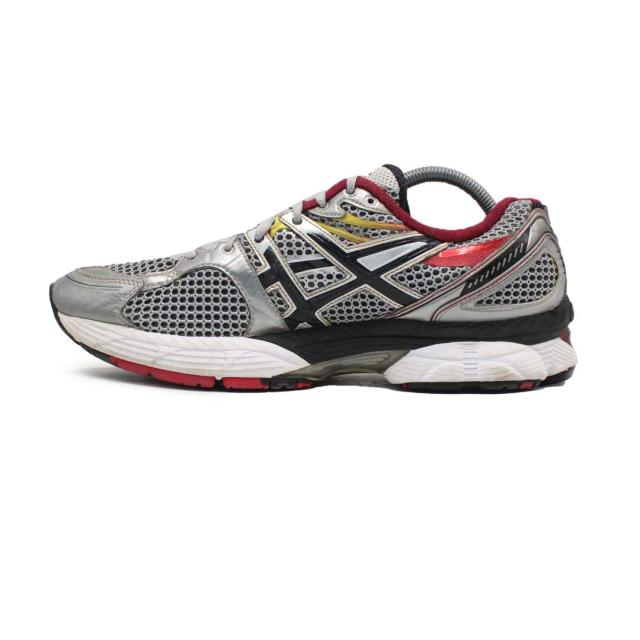heel: (481, 199, 565, 315)
midsole: (51, 281, 576, 391)
uppersole: (54, 162, 491, 335)
